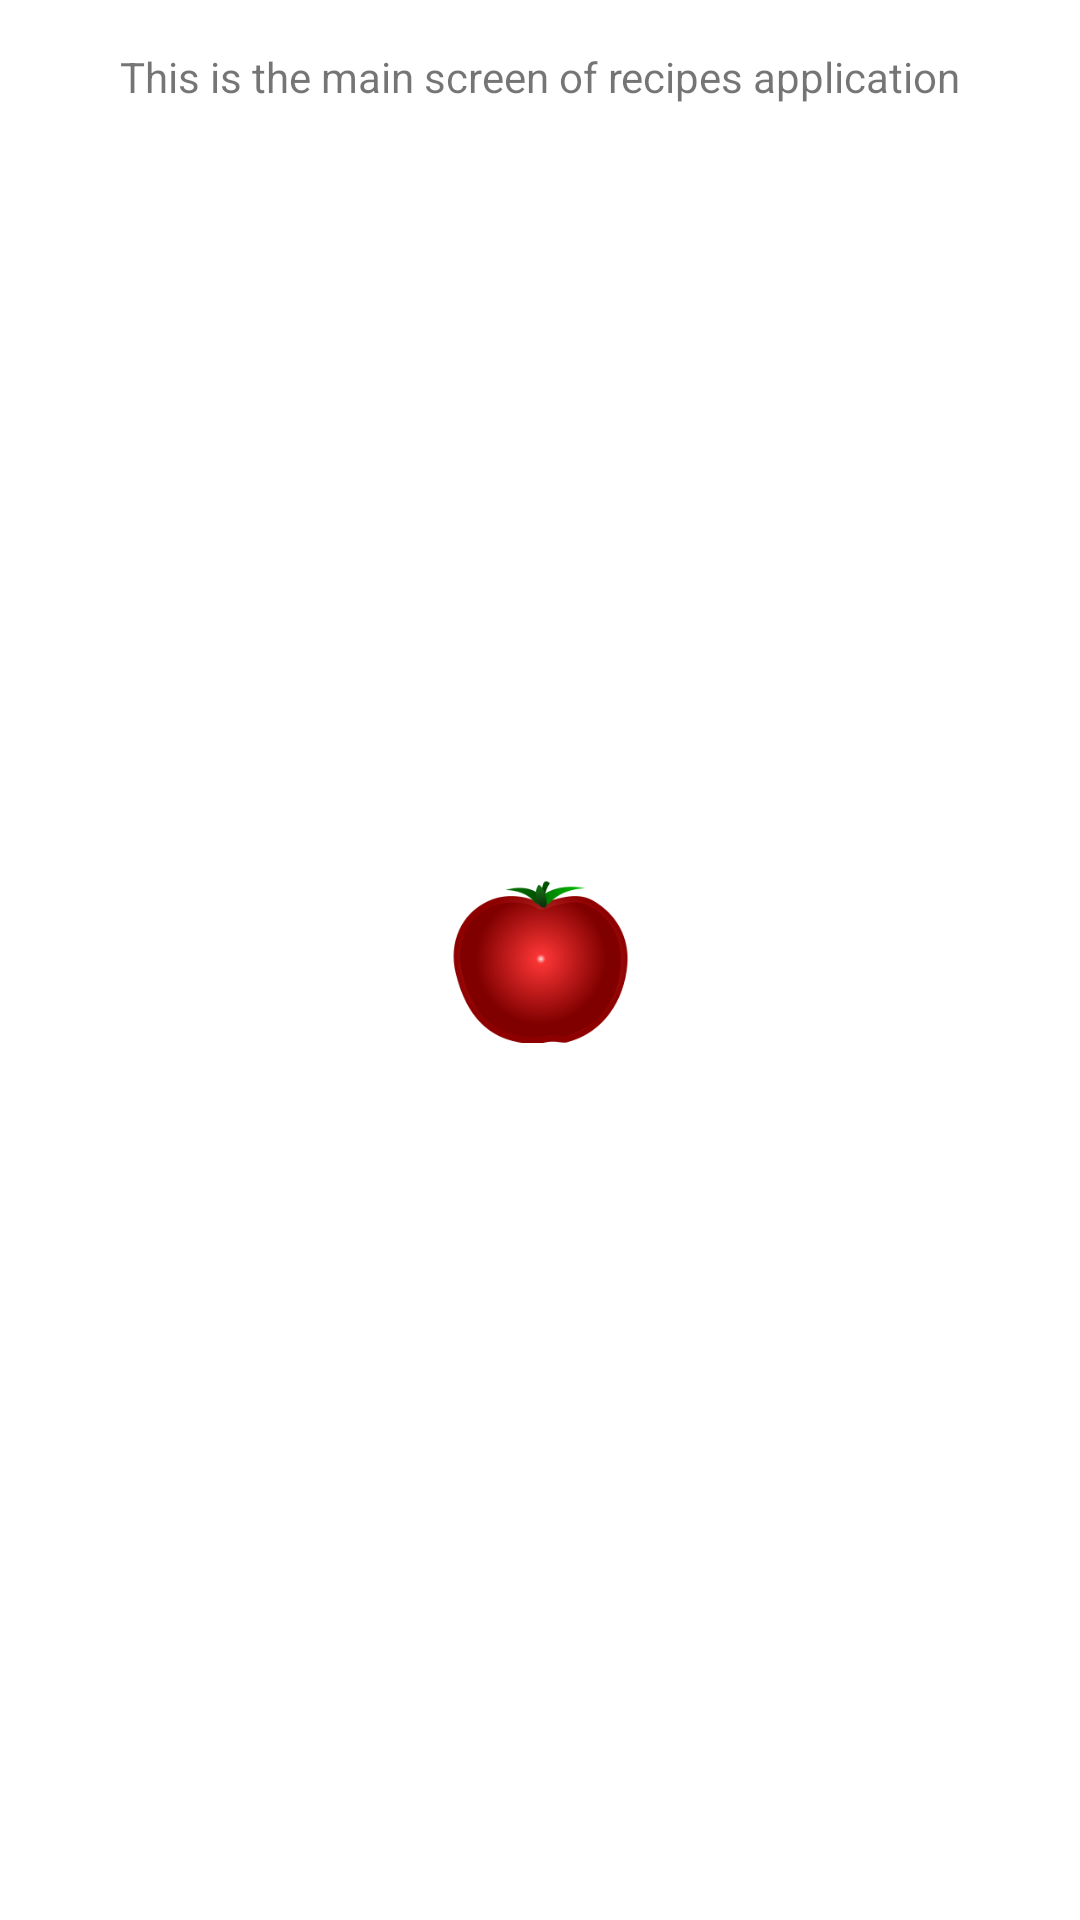

Named icons in this screenshot (1080*1920) and their bounding boxes, detection(x1, y1, x2, y2):
tomatoe: detection(453, 881, 628, 1043)
